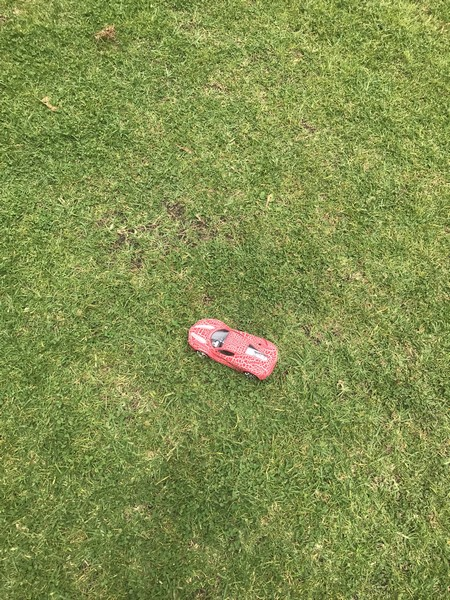RC: (187, 315, 280, 382)
